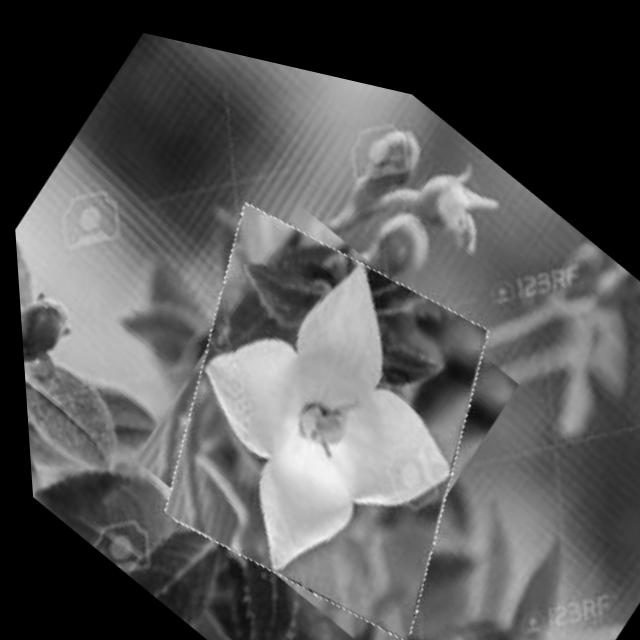Flower: (86, 130, 557, 640)
